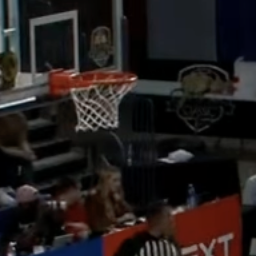hoop: (49, 70, 137, 130)
